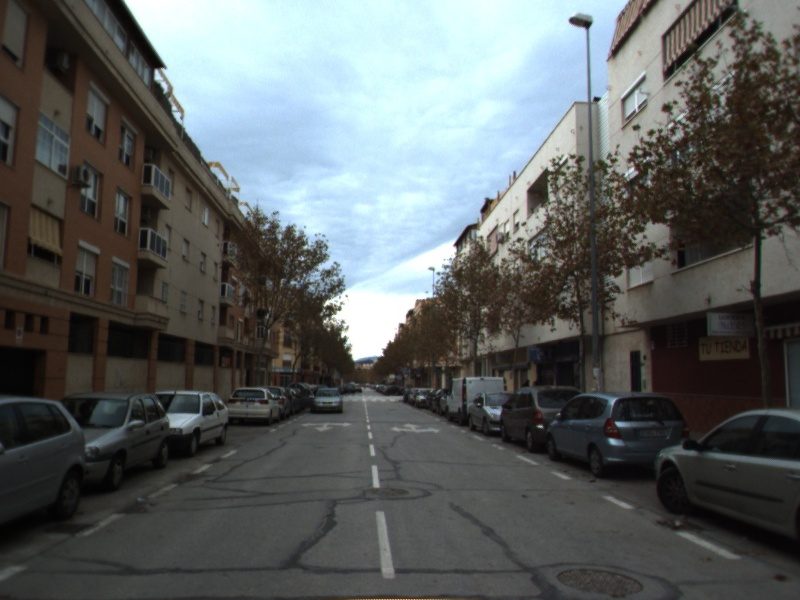STRAIGHT_LEFT_RIGHT: (388, 421, 442, 435)
